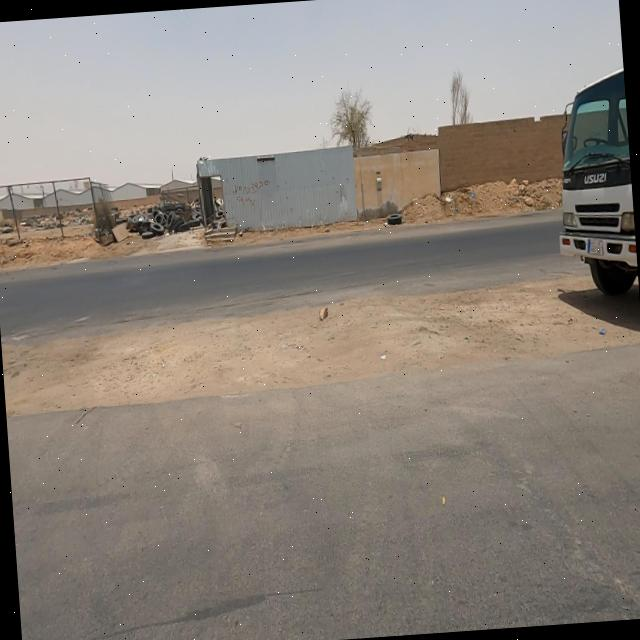Graffiti: (233, 179, 274, 208)
